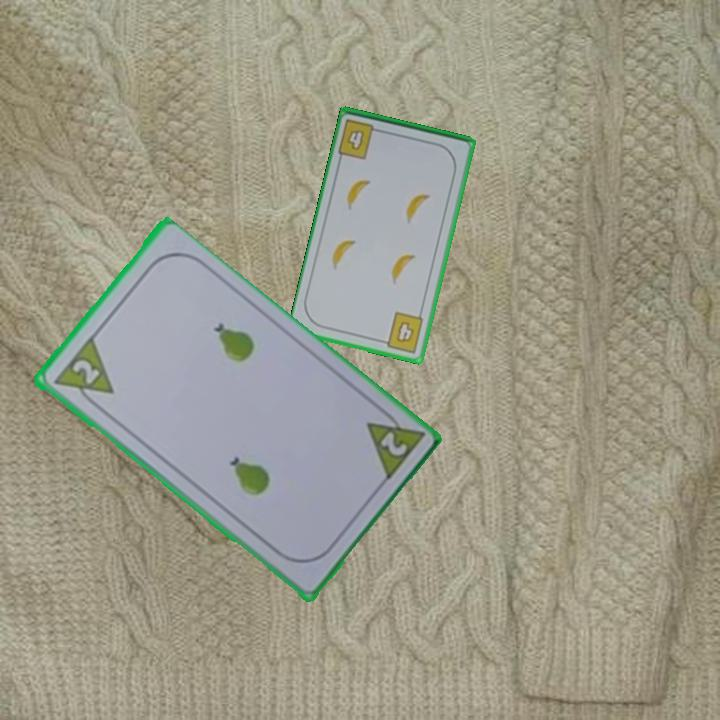2p: (361, 402, 426, 485), (67, 355, 102, 388)
4b: (377, 308, 426, 356), (335, 116, 386, 162)
